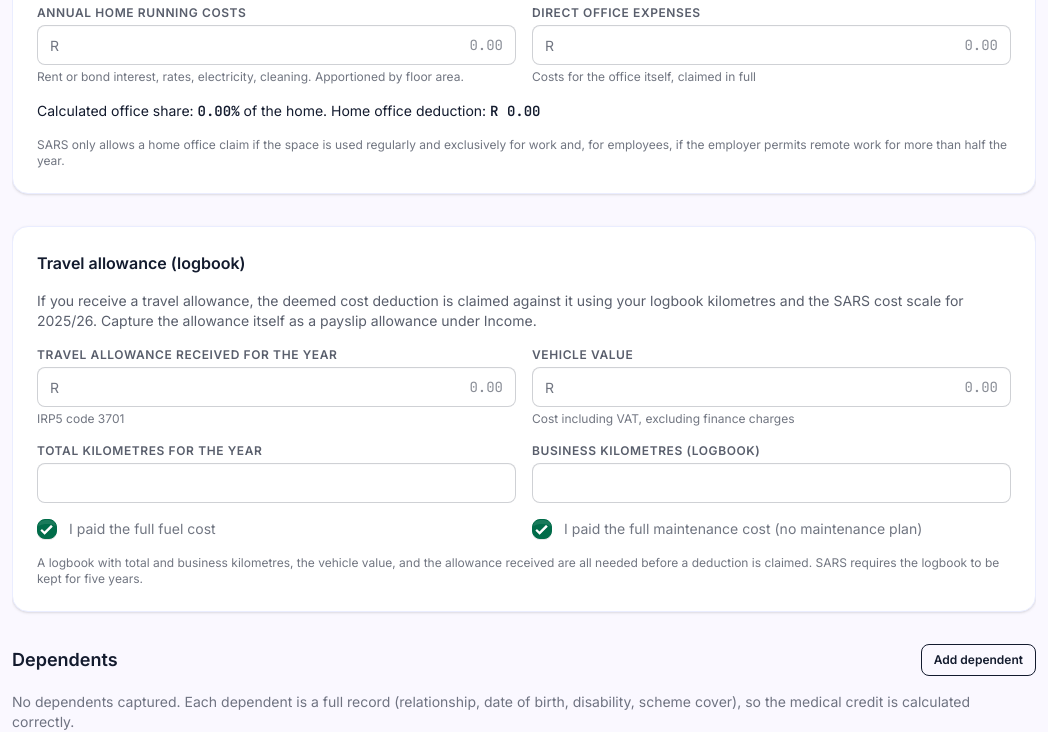
Test case: DeductionsPage travel and home office › computes the travel deduction preview from logbook inputs
(page scrolled)
Type "60000" into the field labelled "Travel allowance received for the year" at (285, 387), box [67,368,503,406]
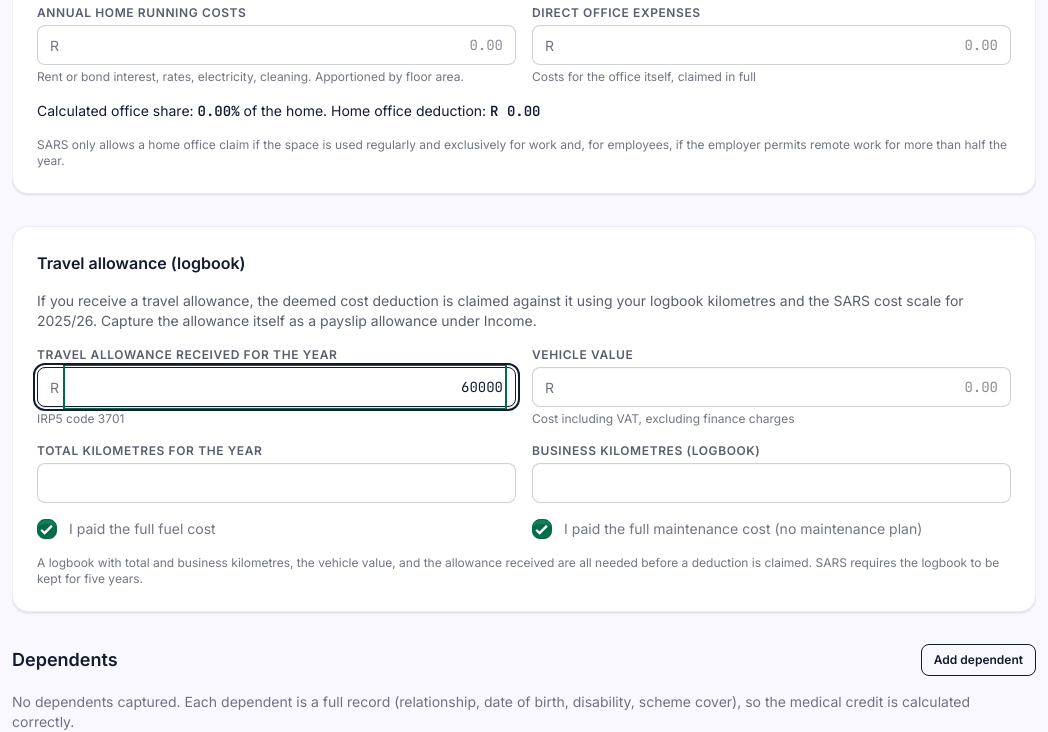
Type "250000" into the field labelled "Vehicle value" at (780, 387), box [562,368,998,406]
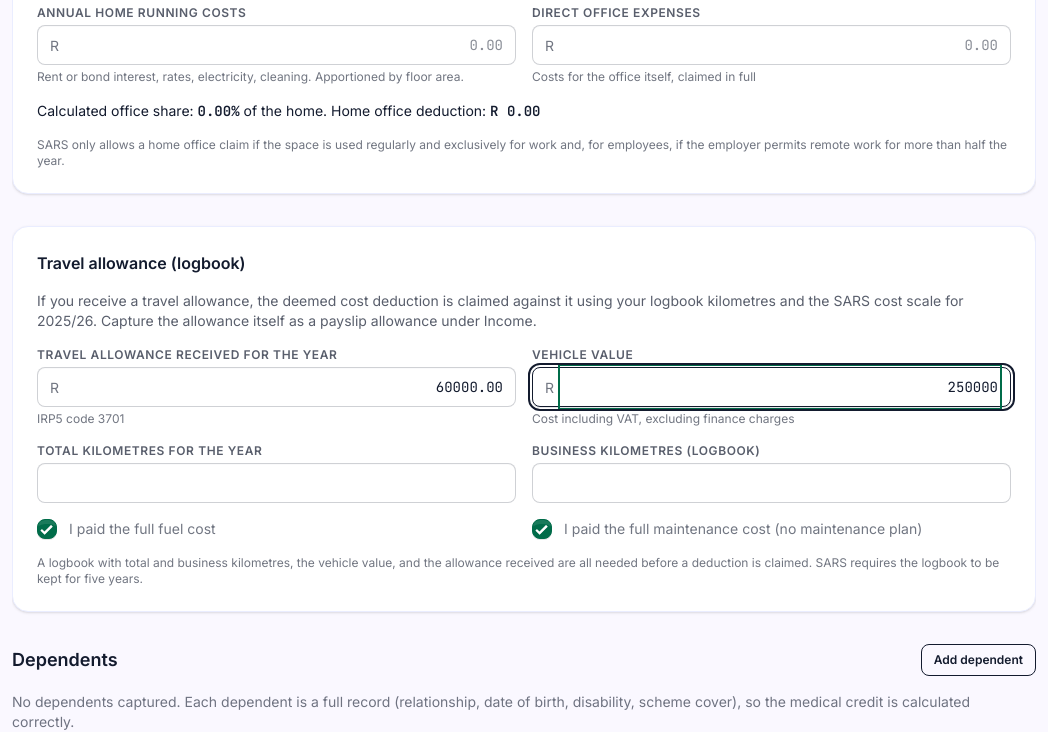
Type "30000" into the number field labelled "Total kilometres for the year" at (276, 483), box [37,463,516,503]
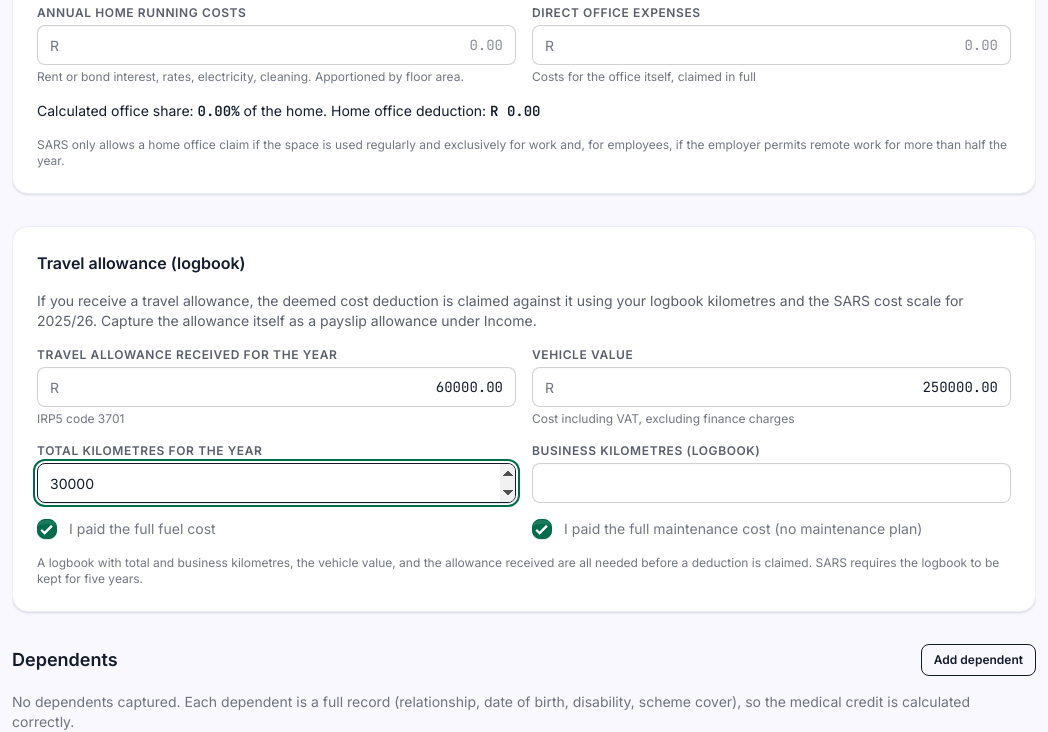
Type "10000" into the number field named "Business kilometres from the logbook" at (772, 483), box [532,463,1011,503]
(page scrolled)
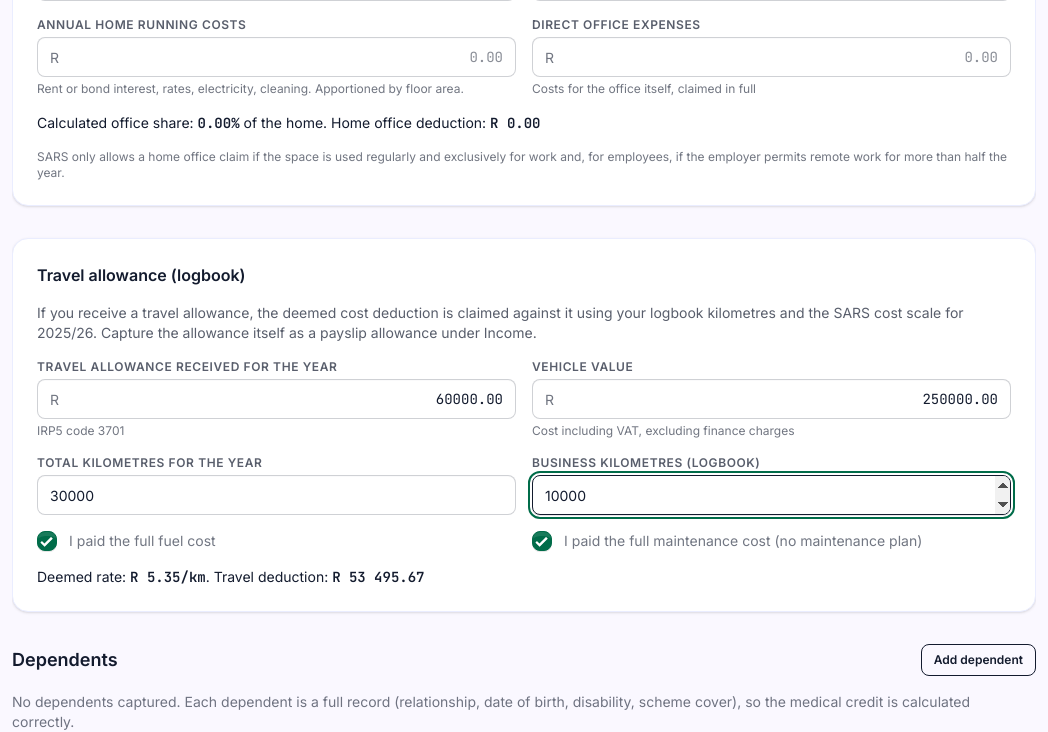
Result: the text "R 5.35/km" is shown at [130,568,206,586]
Result: the text "R 53 495.67" is shown at [332,568,424,586]
